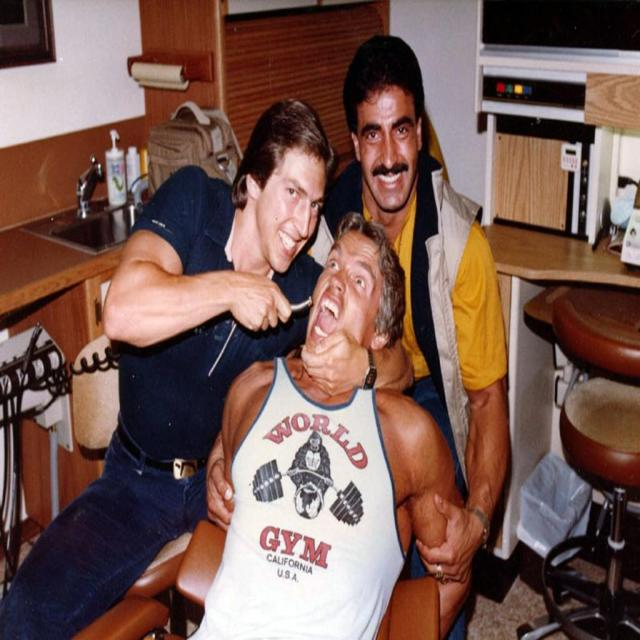nomask: (305, 234, 373, 370), (260, 150, 326, 270), (357, 86, 415, 210)
